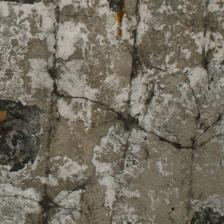Crack: (5, 37, 113, 117), (47, 32, 104, 120), (57, 100, 134, 124), (113, 18, 148, 64)
